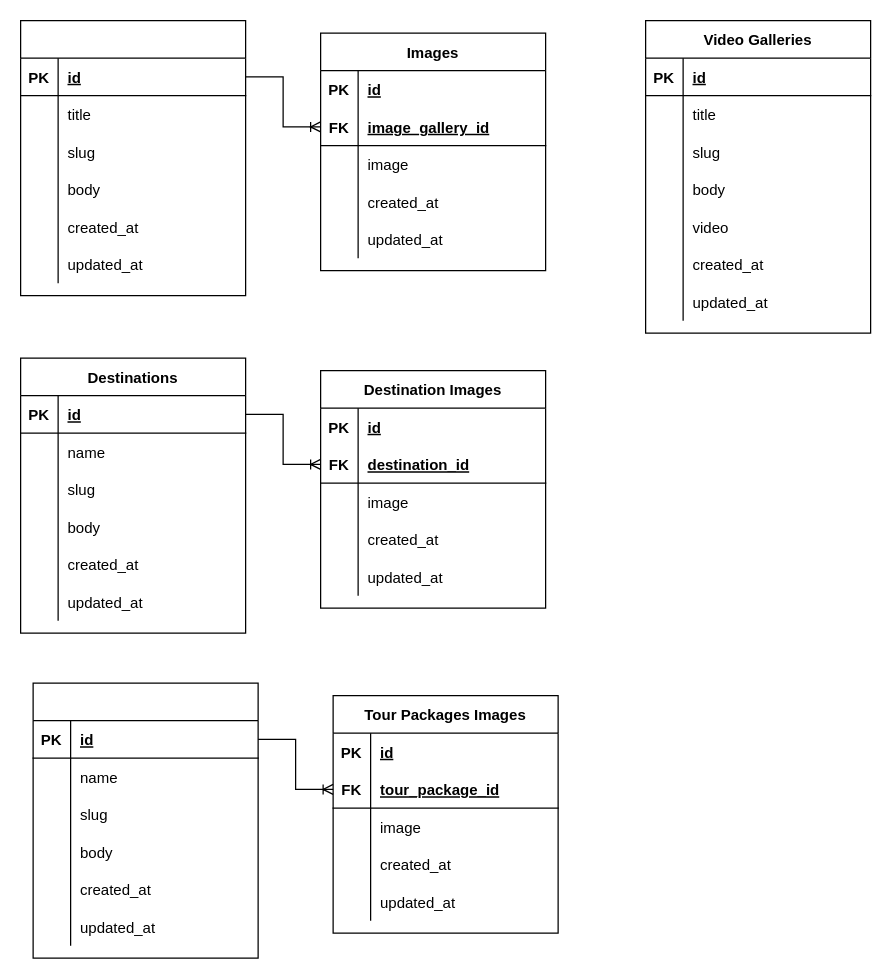
This 891x979 diagram has some shape labels left out. The shapes that lost their labels are listed below. From the top down, each one's box as (x1, y1, x2, y2) in pixels, then its label:
(19, 19, 246, 296): Image Galleries
(32, 682, 258, 958): Tour Packages
